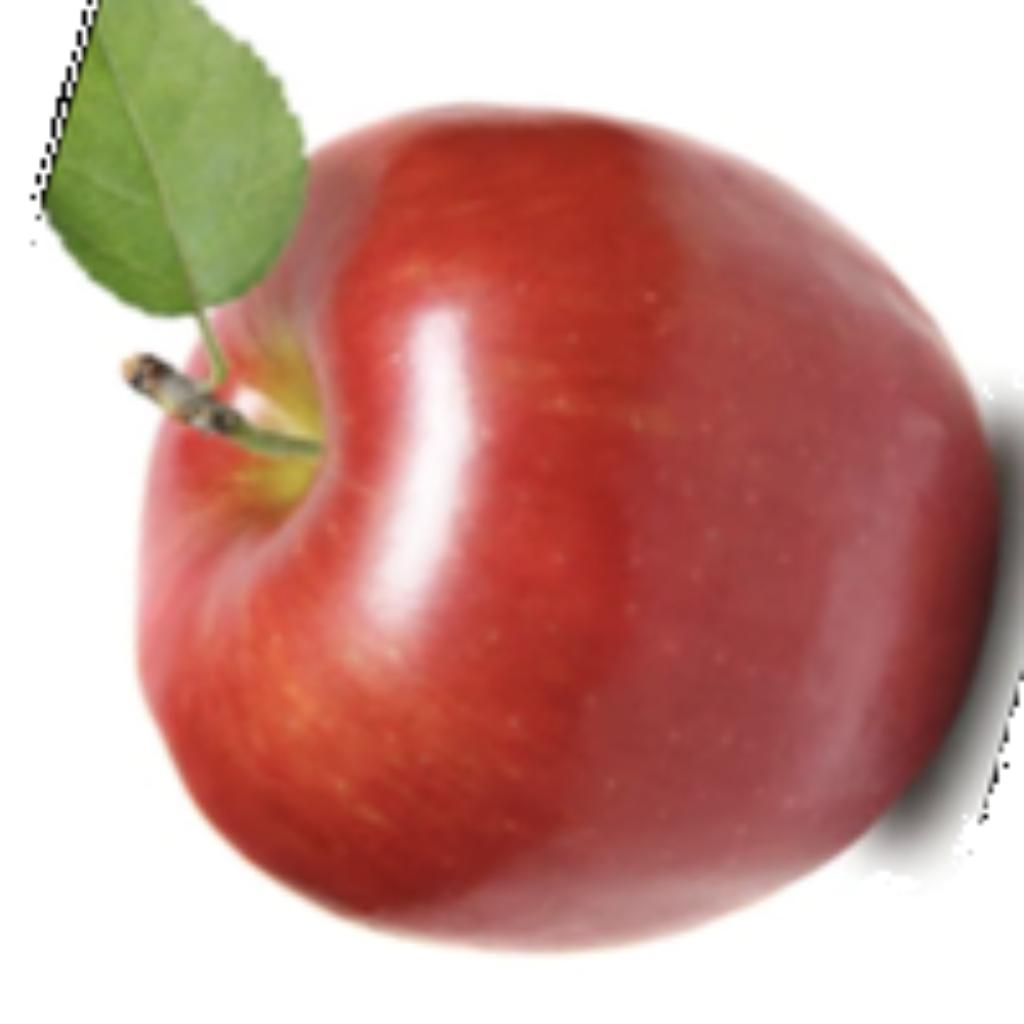apple: (26, 9, 1019, 957)
